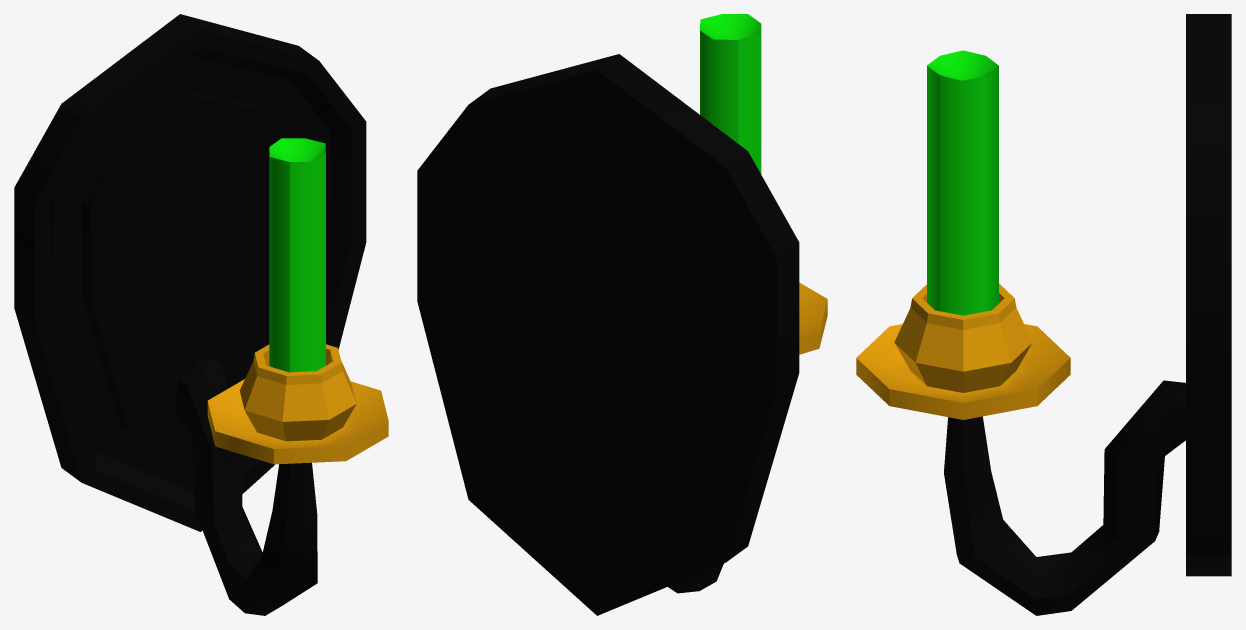
The model's file is Arandela_Cripta.fbx.
The picture shows the model from 3 angles, left to right: view 1: azimuth 30°, elevation 25°; view 2: azimuth 150°, elevation 25°; view 3: azimuth 270°, elevation 25°; orthographic projection. The views are drawn at different scales.
Parts seen in each view (by area): view 1: Base_Arandela, Vela_Arandela; view 2: Base_Arandela, Vela_Arandela; view 3: Base_Arandela, Vela_Arandela.
Part boxes in pixels (x1,y1,x2,y2): Base_Arandela: [14, 14, 388, 615]; Vela_Arandela: [269, 138, 325, 372]; Base_Arandela: [417, 54, 827, 615]; Vela_Arandela: [700, 14, 761, 173]; Base_Arandela: [856, 14, 1231, 615]; Vela_Arandela: [927, 50, 998, 315].
Size of the model in its own units: 2.89 by 4.48 by 2.53.
